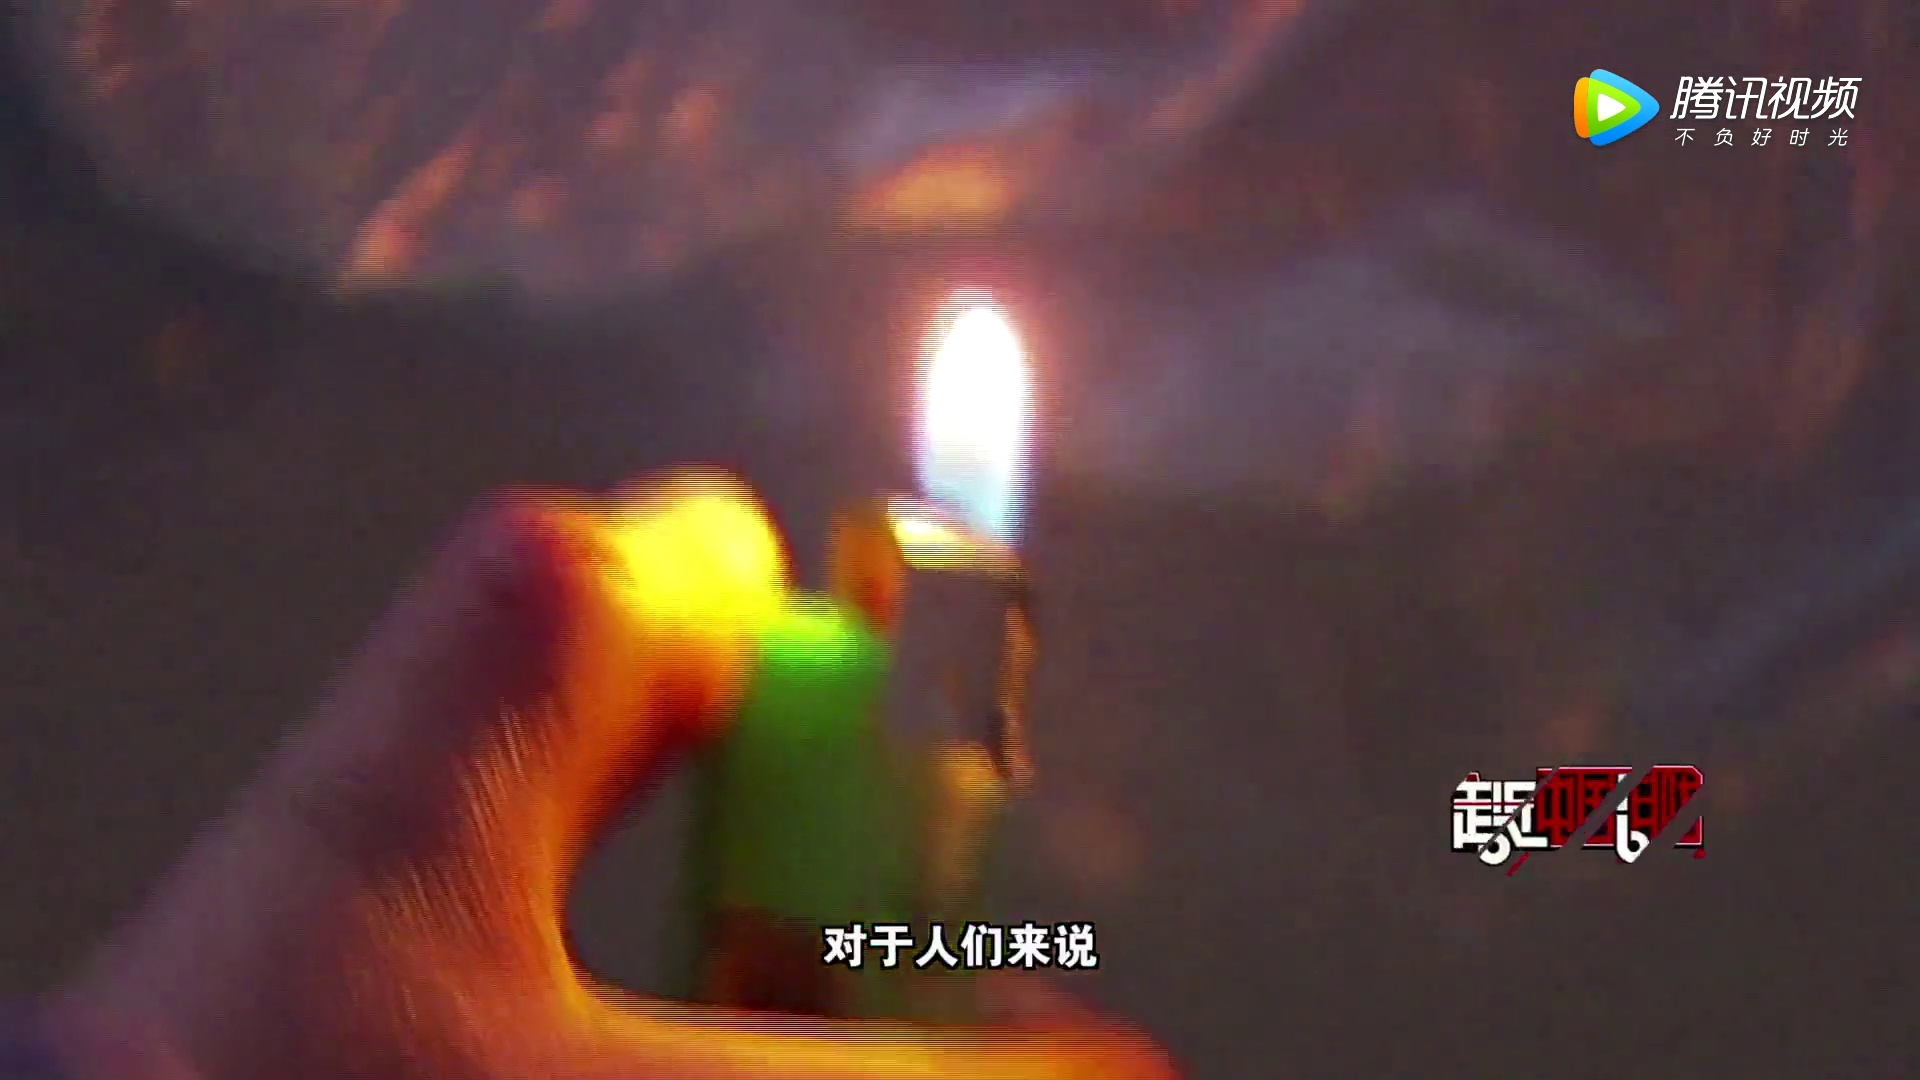fire: (899, 257, 1065, 538)
